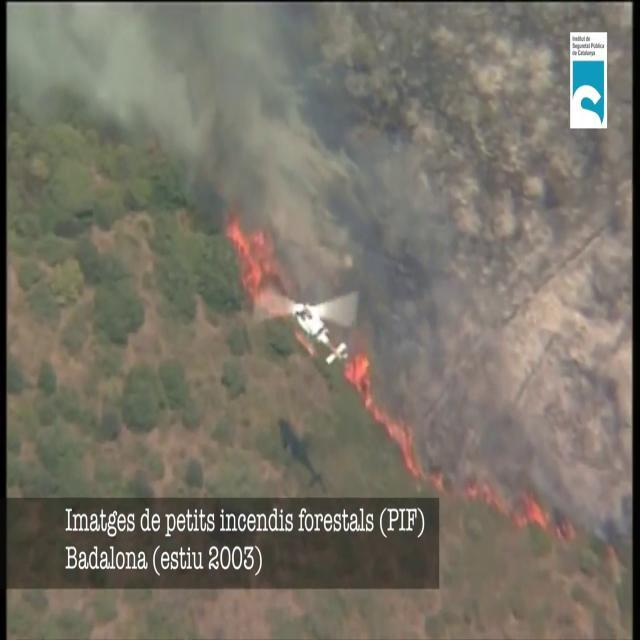Fire: (224, 208, 296, 318), (343, 342, 388, 428)
Smoke: (17, 2, 309, 244)
